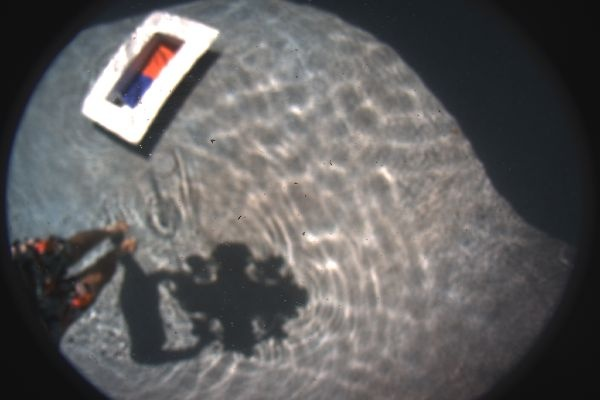bin: (82, 12, 220, 144)
bin_bleue: (120, 73, 152, 107)
bin_rouge: (138, 42, 176, 80)
